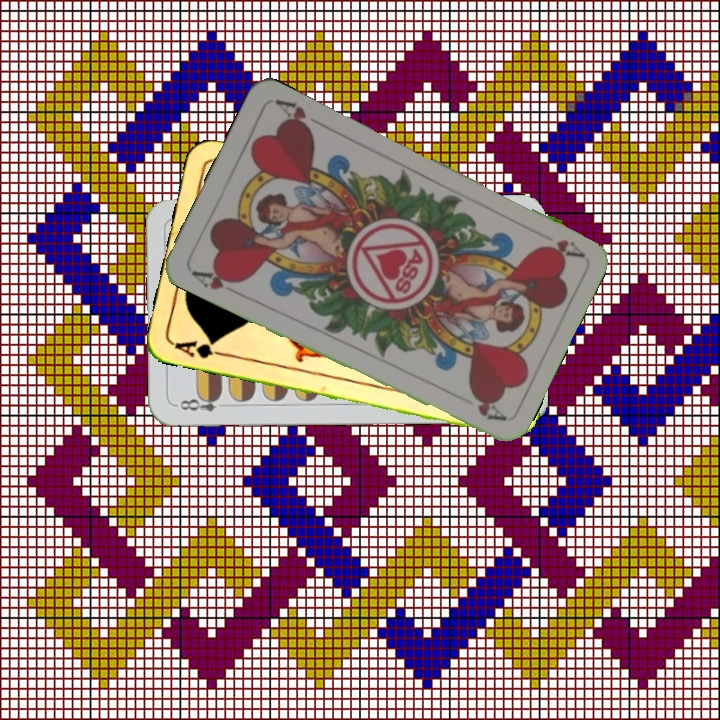E8: (173, 391, 224, 414)
GA: (170, 336, 229, 361)
HA: (187, 265, 244, 298), (536, 235, 586, 260)
